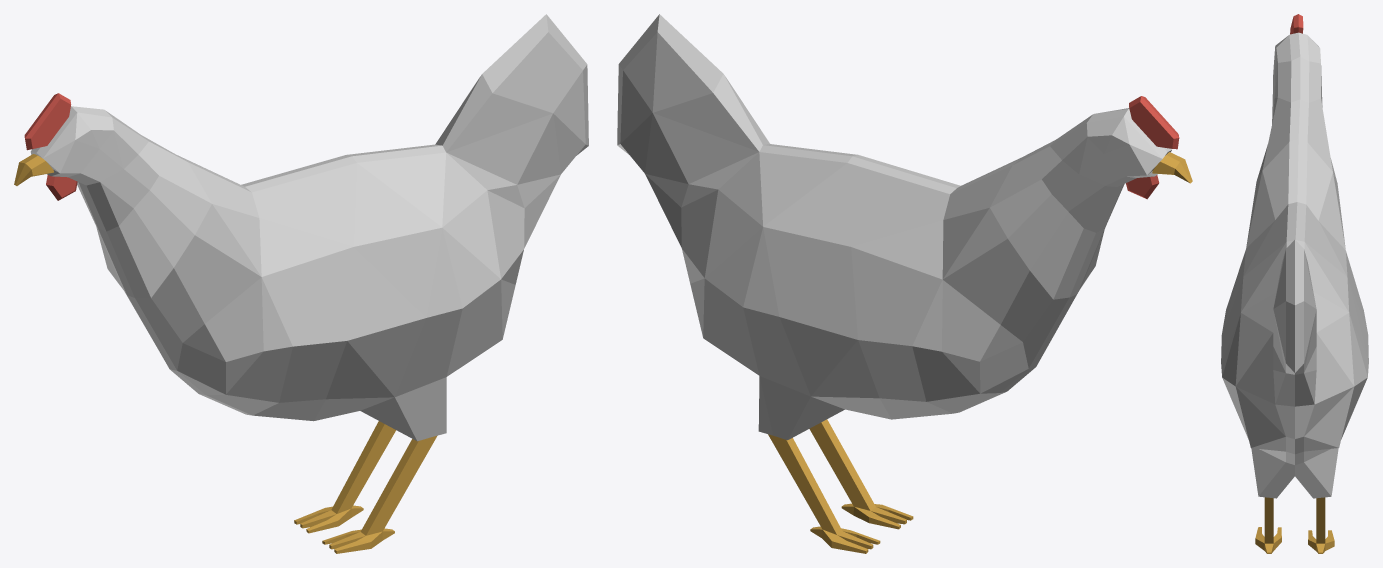
File: hen_8.fbx
The picture shows the model from 3 angles, left to right: view 1: azimuth 30°, elevation 25°; view 2: azimuth 150°, elevation 25°; view 3: azimuth 270°, elevation 25°; orthographic projection. The views are drawn at different scales.
Parts seen in each view (by area): view 1: Body, Feet, Top, Beak; view 2: Body, Feet, Top, Beak; view 3: Body, Feet, Top.
Part boxes in pixels (x1,y1,x2,y2): Body: (30,14,588,441); Feet: (294,421,437,553); Top: (24,93,71,150); Beak: (14,154,53,185); Body: (617,14,1171,440); Feet: (768,419,913,553); Top: (1129,96,1179,149); Beak: (1152,152,1192,183); Body: (1221,32,1368,498); Feet: (1255,497,1334,553); Top: (1290,14,1303,34).
Bounding box in the file's own units: 0.7017 × 2.18 × 2.58.
